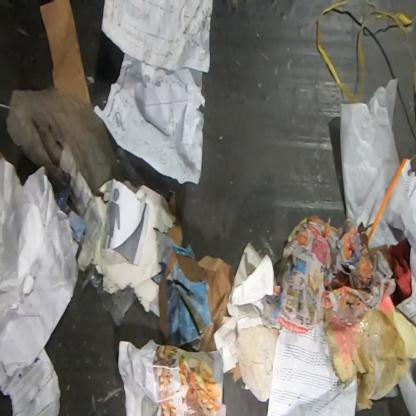cardboard: (38, 0, 92, 105)
soft_plastic: (6, 84, 124, 200), (331, 305, 386, 384), (90, 272, 137, 326)
